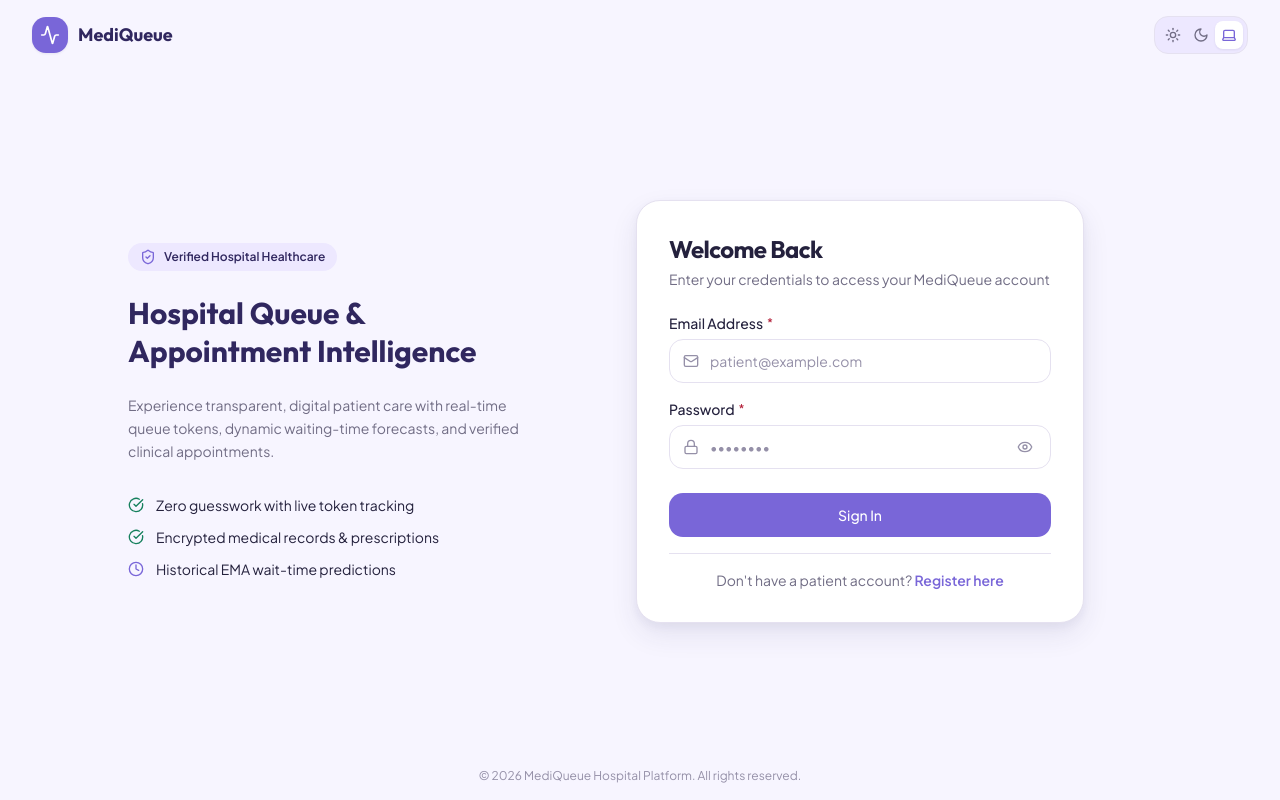
Test: Authentication Flows › LoginPage › validates empty inputs on submit and displays error messages
Click the button "Sign In".
click(860, 514)  # box [669, 492, 1051, 536]
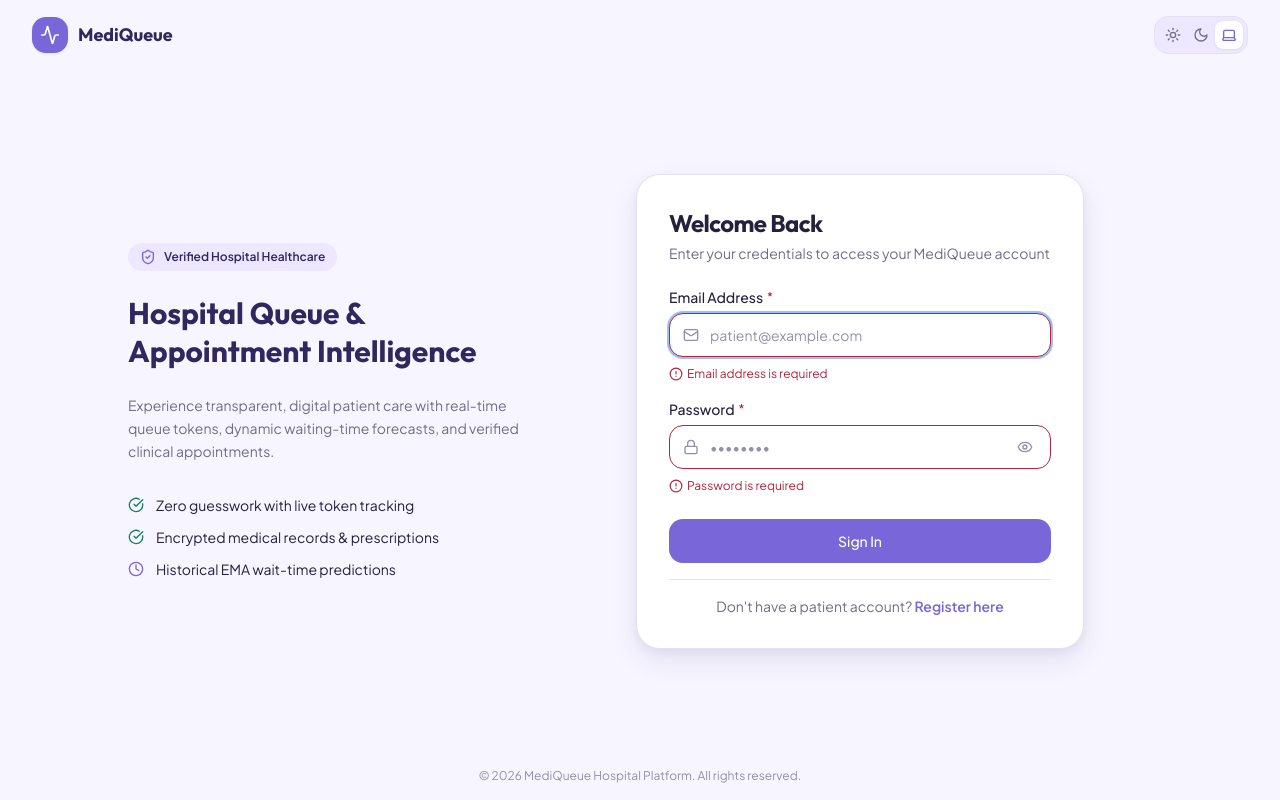
expect the text "Email address is required" is shown: met, box [687, 364, 828, 382]
expect the text "Password is required" is shown: met, box [687, 476, 804, 494]
